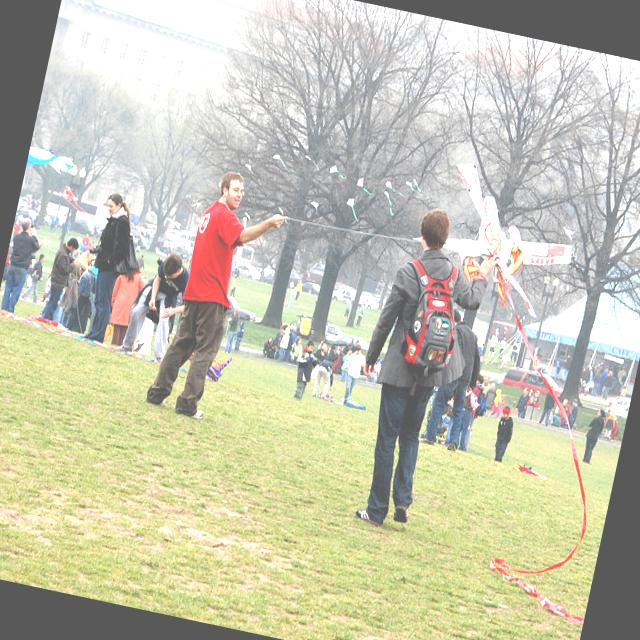Vehicle: (42, 190, 112, 238), (501, 364, 566, 398), (324, 329, 370, 352), (606, 394, 630, 419), (235, 262, 262, 282), (364, 294, 382, 313), (301, 280, 321, 296), (341, 286, 356, 304), (330, 287, 344, 302)
